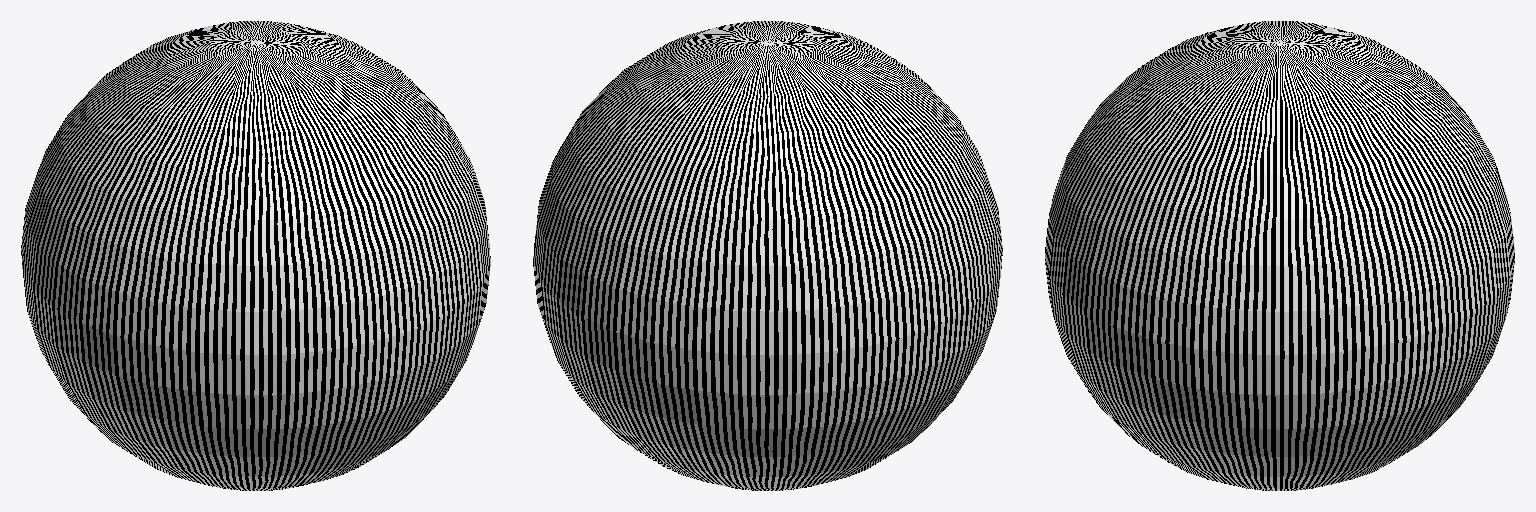
3 renders of one model, left to right at view 1: azimuth 30°, elevation 25°; view 2: azimuth 150°, elevation 25°; view 3: azimuth 270°, elevation 25°, orthographic.
Visible parts, largest first — view 1: Sphere; view 2: Sphere; view 3: Sphere.
Boxes of the visible parts, <box> form: Sphere: <box>21,21,490,490</box>; Sphere: <box>533,21,1002,490</box>; Sphere: <box>1045,21,1514,490</box>.
Size of the model in its own units: 2.59 by 2.59 by 2.59.
1 materials, 1 textured.